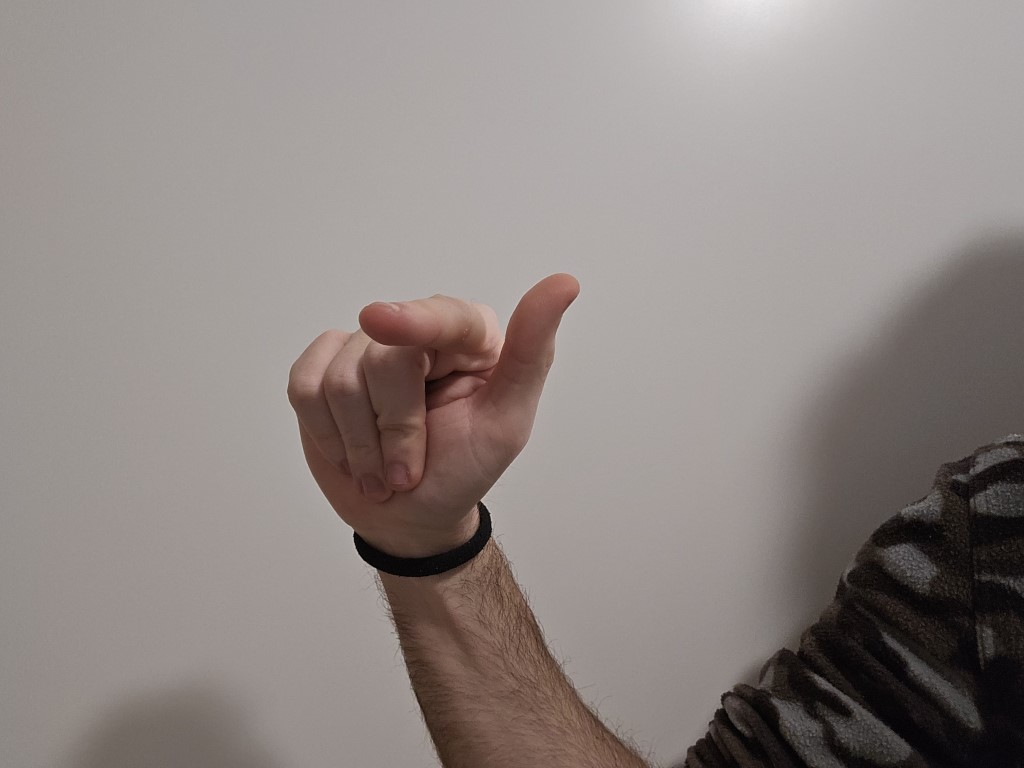t: (255, 243, 605, 539)
